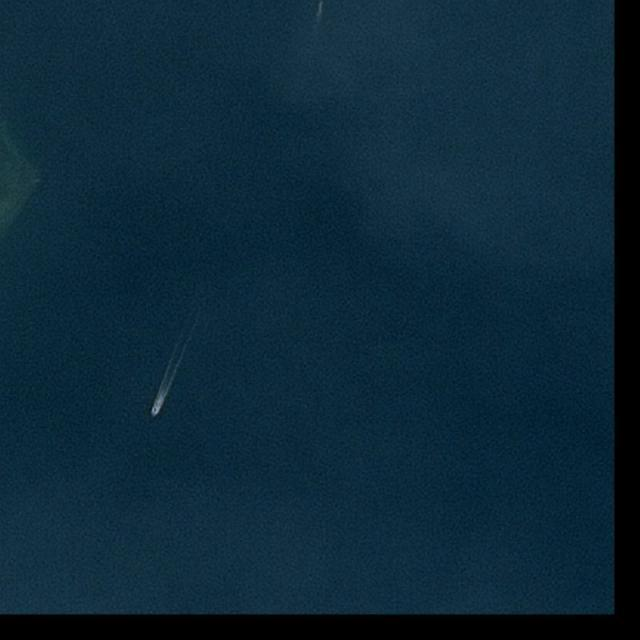ship: (150, 406, 159, 419), (318, 0, 323, 8)
